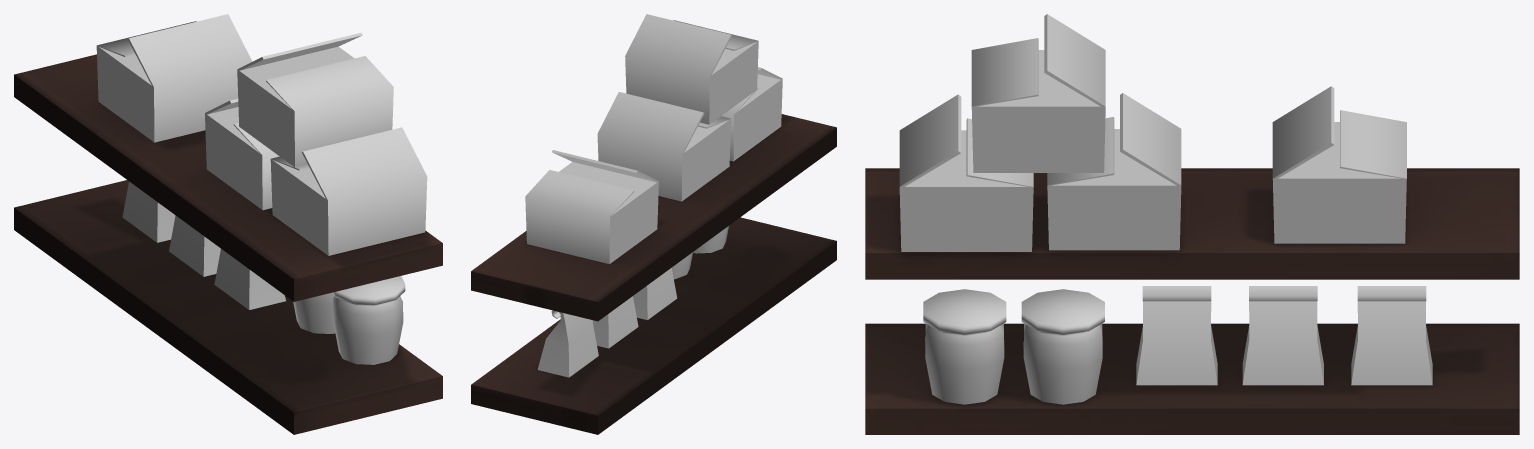
Rendered from Tx_props_wall_shelves_65.fbx.
The picture shows the model from 3 angles, left to right: view 1: azimuth 30°, elevation 25°; view 2: azimuth 150°, elevation 25°; view 3: azimuth 270°, elevation 25°; orthographic projection. The views are drawn at different scales.
Visible parts, largest first — view 1: Tx_props_wall_shelves; view 2: Tx_props_wall_shelves; view 3: Tx_props_wall_shelves.
Boxes of the visible parts, x1,y1,x2,y2 form: Tx_props_wall_shelves: (14, 14, 442, 434); Tx_props_wall_shelves: (471, 14, 836, 434); Tx_props_wall_shelves: (865, 14, 1519, 434).
Size of the model in its own units: 2.7 by 5.36 by 8.78.
